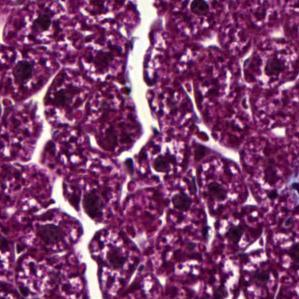inflammation: (238, 42, 299, 93), (80, 35, 128, 83), (219, 220, 272, 261), (144, 135, 187, 182), (97, 238, 131, 270)
